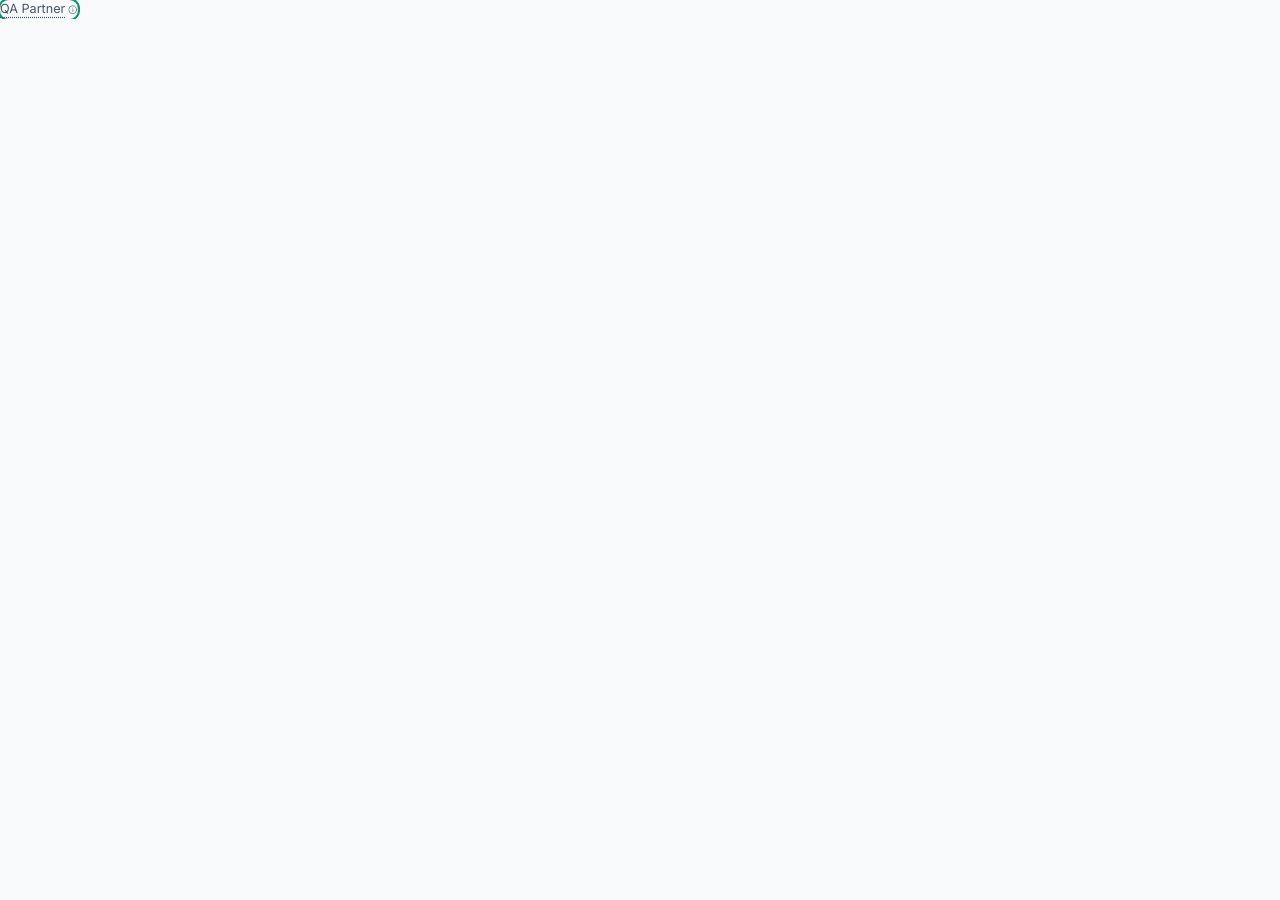
it: read-only loan overview information › shows the saved chosen address (alternative=true), never live partner data
Click the button: point(39, 10) x1=0 y1=0 x2=78 y2=19
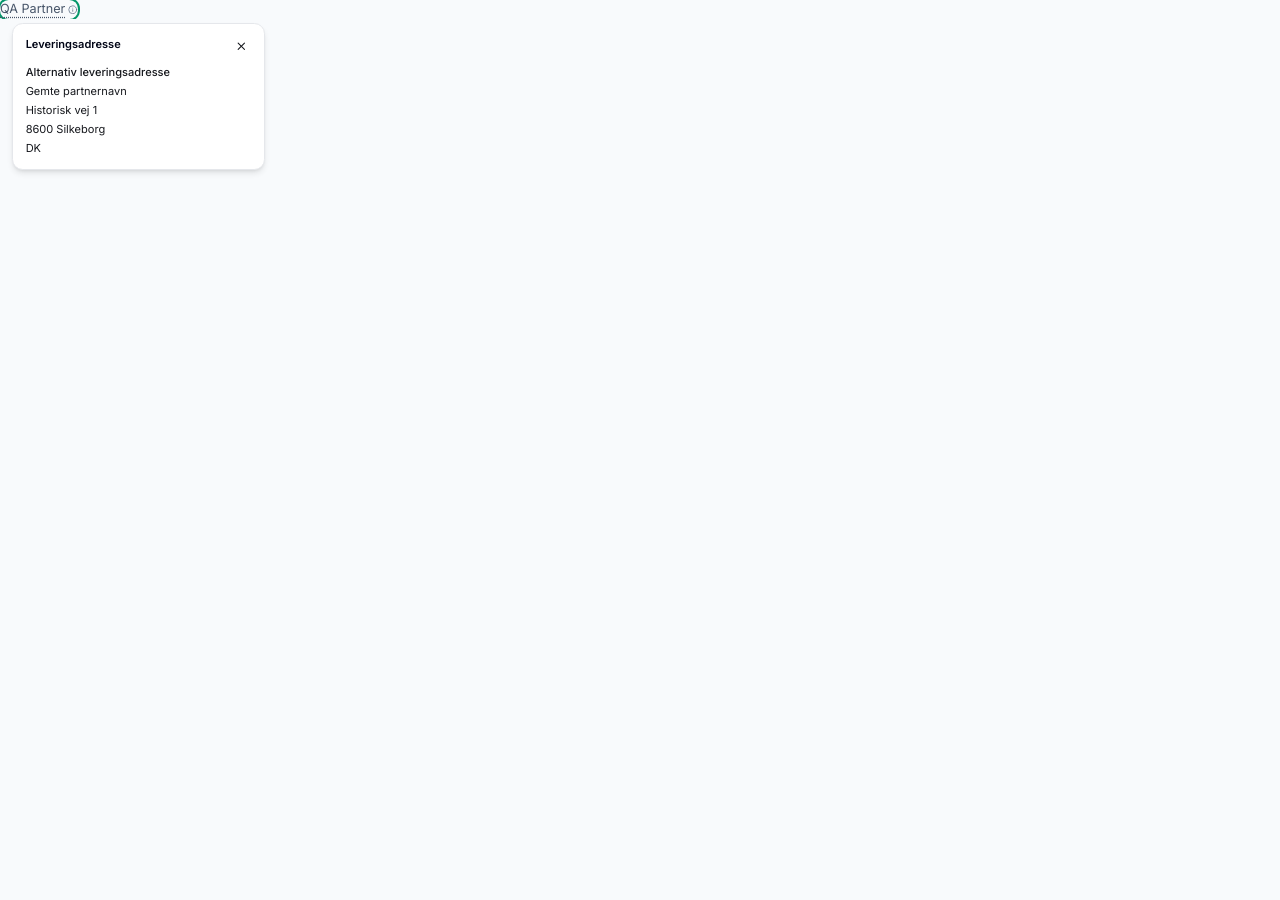
Expected: the text "Historisk vej 1" is shown, x1=26 y1=103 x2=97 y2=117
Expected: the text "Alternativ leveringsadresse" is shown, x1=26 y1=65 x2=170 y2=79
Expected: the text "Gemte partnernavn" is shown, x1=26 y1=84 x2=127 y2=98
